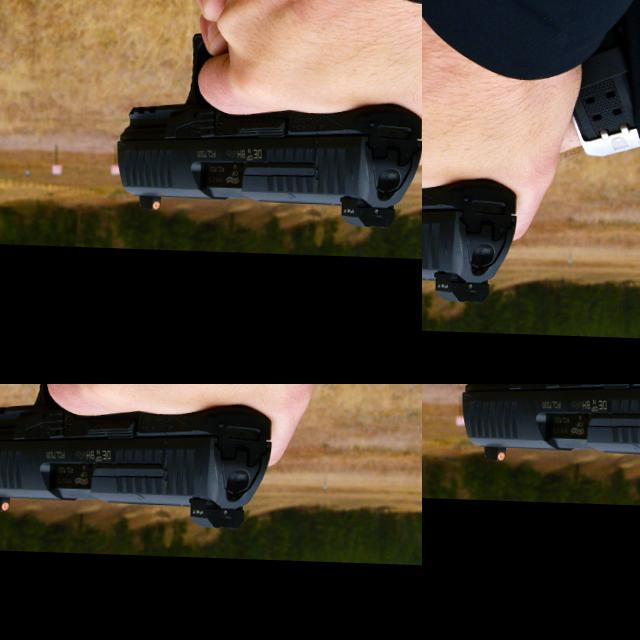handgun: (422, 84, 640, 298), (70, 384, 345, 497), (455, 384, 640, 487), (382, 92, 422, 159)
